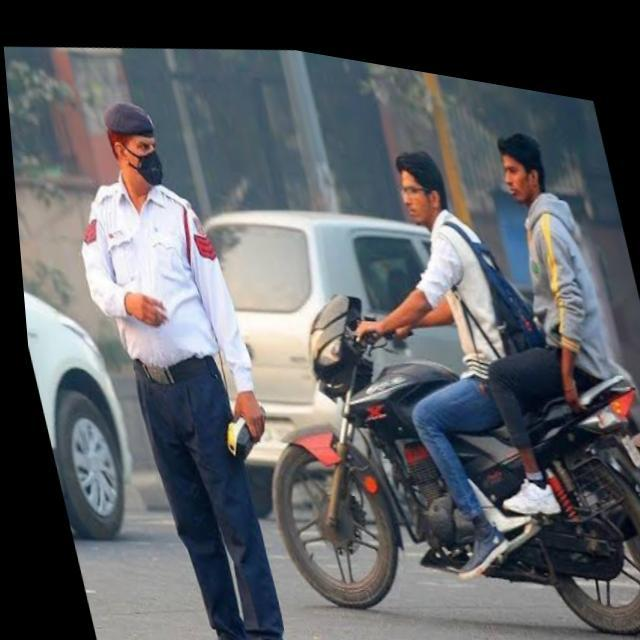Nonhelmet: (384, 140, 456, 230), (493, 125, 554, 210)
